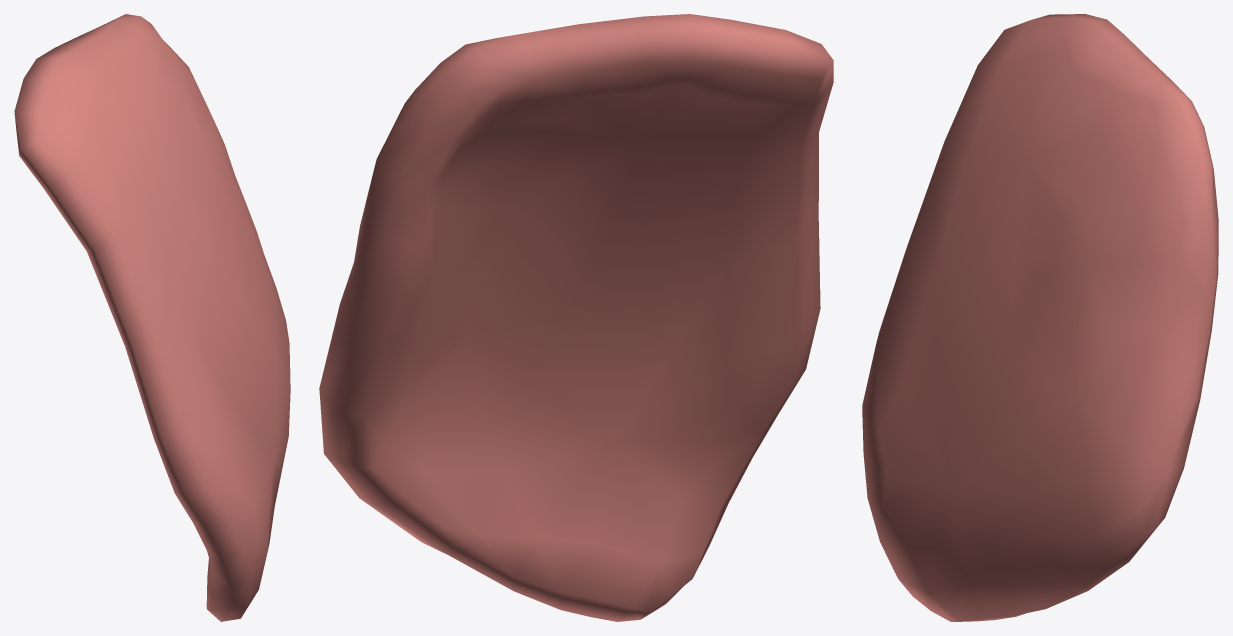
3 renders of one model, left to right at view 1: azimuth 30°, elevation 25°; view 2: azimuth 150°, elevation 25°; view 3: azimuth 270°, elevation 25°, orthographic. The views are drawn at different scales.
Visible parts, largest first — view 1: ZA_05593ec106f37f9b; view 2: ZA_05593ec106f37f9b; view 3: ZA_05593ec106f37f9b.
Part boxes in pixels (<box>): ZA_05593ec106f37f9b: <box>14,14,290,621</box>; ZA_05593ec106f37f9b: <box>319,14,833,621</box>; ZA_05593ec106f37f9b: <box>862,14,1218,621</box>.
Size of the model in its own units: 0.00321 by 0.00502 by 0.00297.
